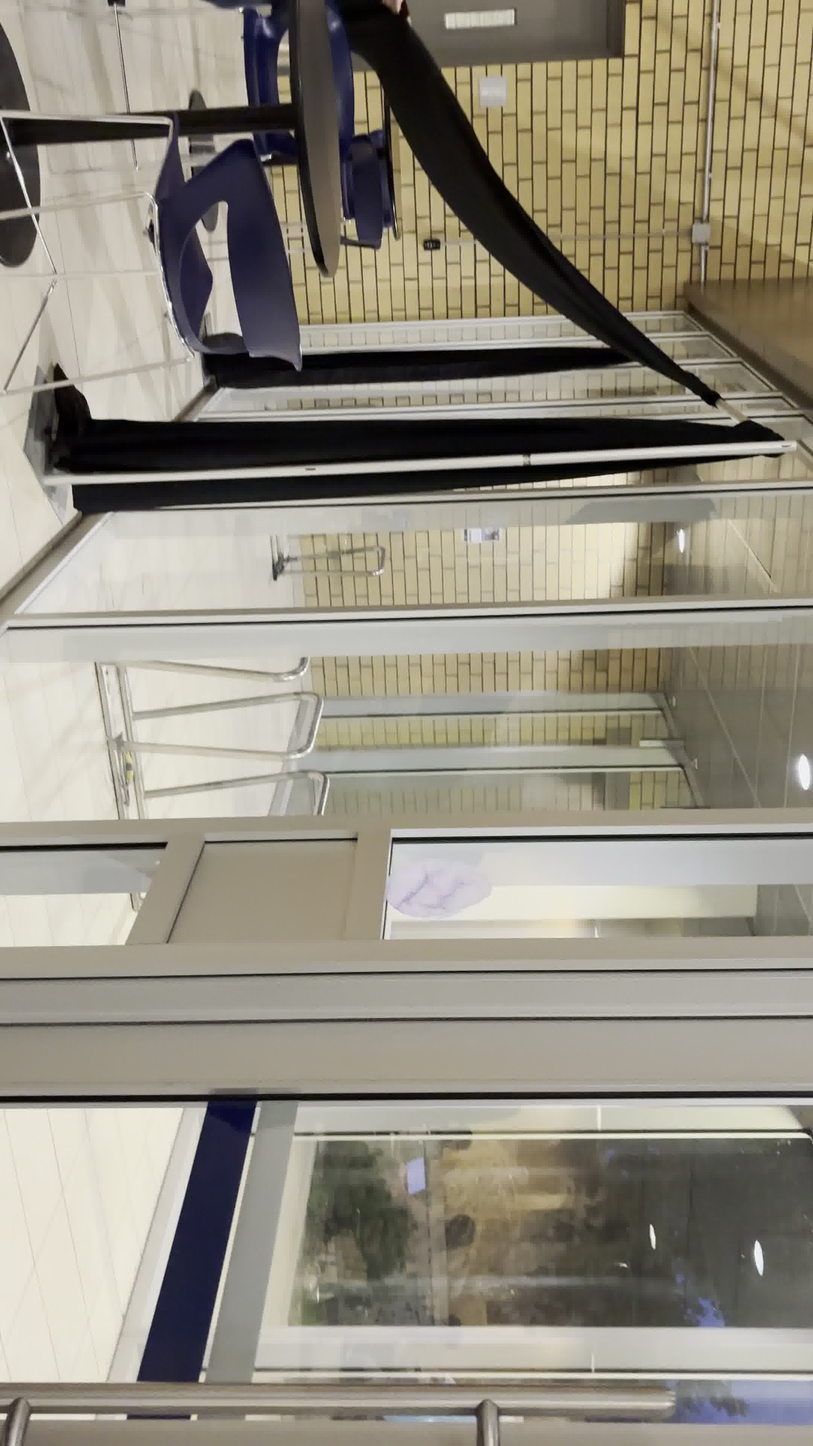Target: (381, 855, 497, 919)
